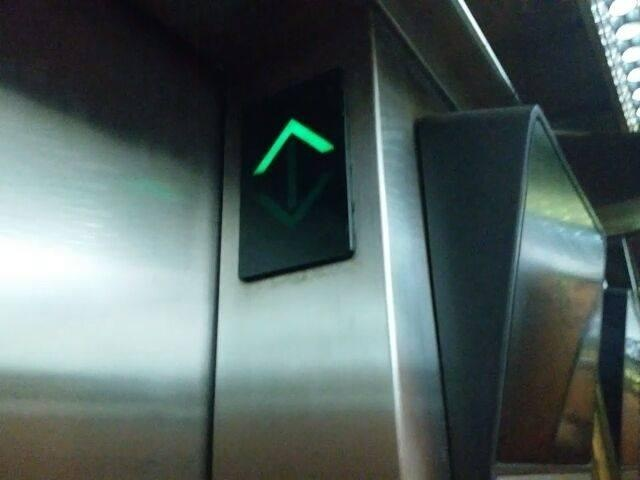up: (237, 64, 356, 287)
